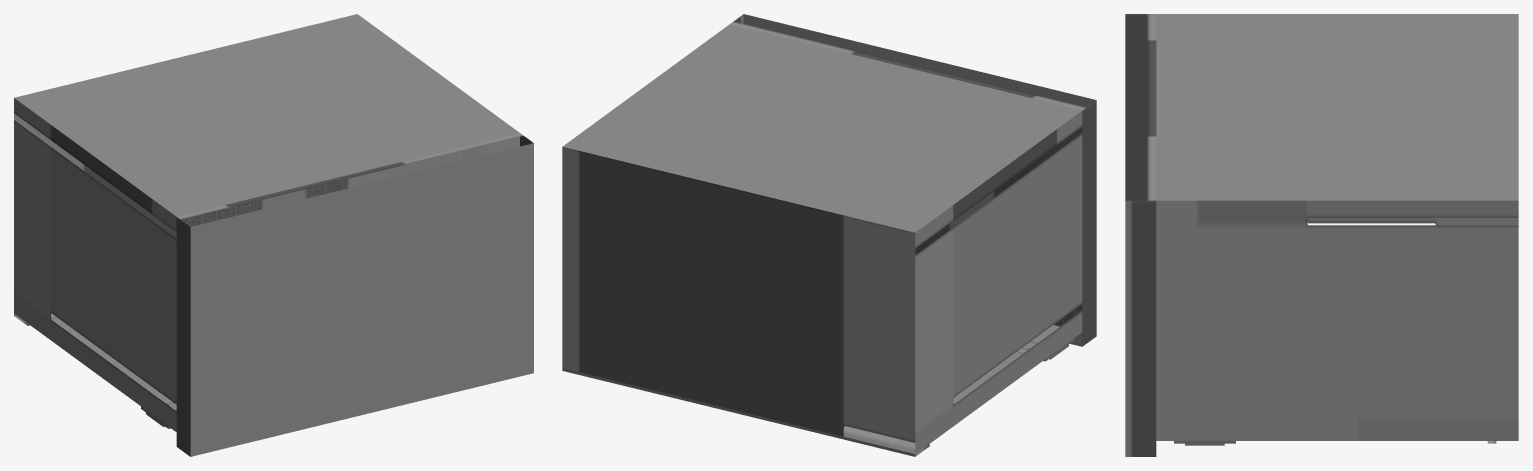
3 renders of one model, left to right at view 1: azimuth 30°, elevation 25°; view 2: azimuth 150°, elevation 25°; view 3: azimuth 270°, elevation 25°, orthographic. The views are drawn at different scales.
Bounding box in the file's own units: 1 × 0.64 × 0.89.
